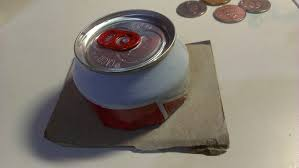Metal: (71, 9, 189, 130)
